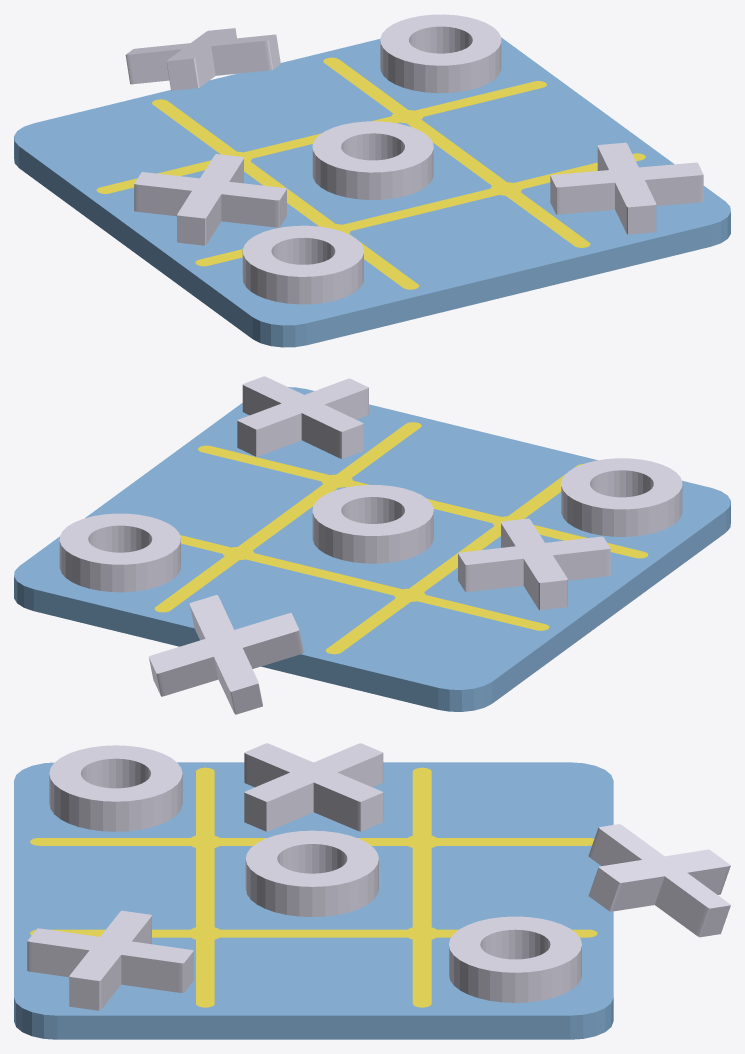
Rendered from tictactoee.gltf.
The picture shows the model from 3 angles, top to bottom: view 1: azimuth 30°, elevation 25°; view 2: azimuth 150°, elevation 25°; view 3: azimuth 270°, elevation 25°; orthographic projection. The views are drawn at different scales.
Parts seen in each view (by area): view 1: Cube, Curve, Cylinder, Cylinder.002, Cylinder.001, Cube.001, Cube.002, Cube.003; view 2: Cube, Curve, Cube.003, Cube.002, Cylinder, Cylinder.001, Cylinder.002, Cube.001; view 3: Cube, Curve, Cube.001, Cylinder.002, Cylinder, Cube.003, Cylinder.001, Cube.002.
Part boxes in pixels (bbox=[...]): Cube: bbox=[14, 37, 730, 347]; Curve: bbox=[96, 57, 645, 289]; Cylinder: bbox=[312, 121, 433, 199]; Cylinder.002: bbox=[242, 225, 363, 304]; Cylinder.001: bbox=[380, 14, 501, 93]; Cube.001: bbox=[134, 154, 286, 245]; Cube.002: bbox=[550, 142, 703, 234]; Cube.003: bbox=[125, 28, 280, 90]; Cube: bbox=[14, 387, 730, 711]; Curve: bbox=[154, 422, 648, 654]; Cube.003: bbox=[149, 595, 303, 714]; Cube.002: bbox=[237, 376, 368, 458]; Cylinder: bbox=[312, 485, 433, 563]; Cylinder.001: bbox=[59, 513, 180, 592]; Cylinder.002: bbox=[561, 458, 682, 536]; Cube.001: bbox=[458, 518, 610, 610]; Cube: bbox=[14, 762, 613, 1039]; Curve: bbox=[30, 767, 597, 1007]; Cube.001: bbox=[244, 743, 383, 831]; Cylinder.002: bbox=[49, 745, 182, 831]; Cylinder: bbox=[245, 830, 378, 916]; Cube.003: bbox=[588, 824, 730, 937]; Cylinder.001: bbox=[449, 916, 581, 1002]; Cube.002: bbox=[27, 910, 193, 1010].
Size of the model in its own units: 1.37 by 0.1688 by 1.64.
